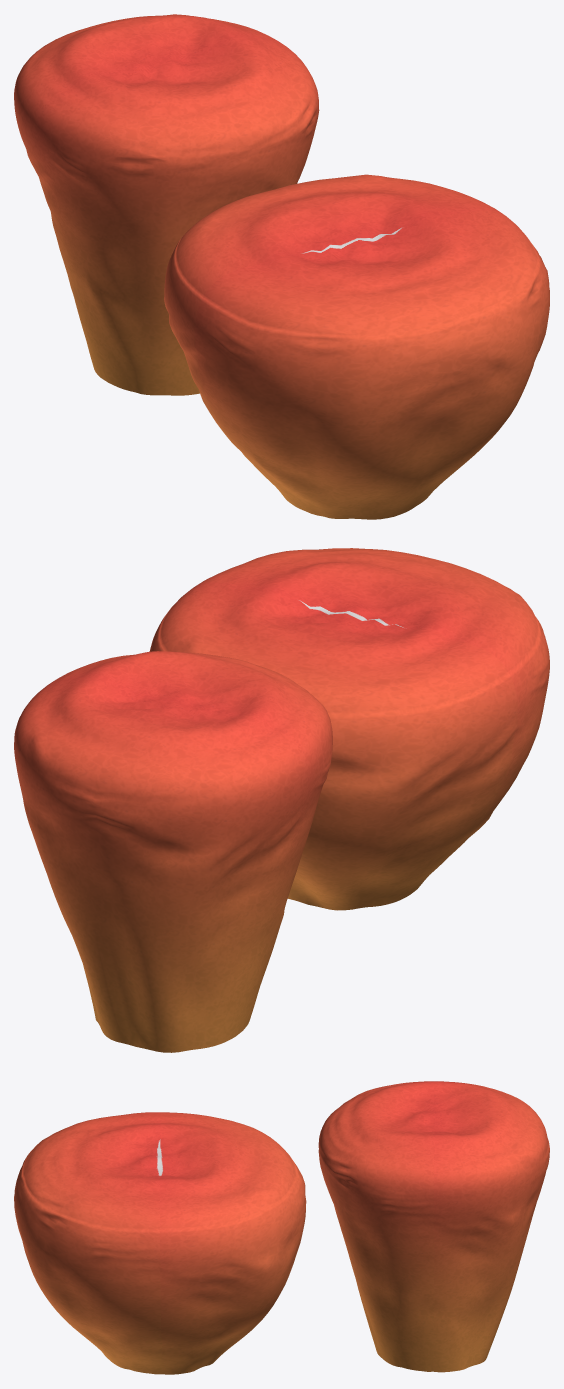
File: 2 Floating Lantain.fbx
3 views of the same model, one above another, from view 1: azimuth 30°, elevation 25°; view 2: azimuth 150°, elevation 25°; view 3: azimuth 270°, elevation 25° (orthographic). The views are drawn at different scales.
Visible parts, largest first — view 1: Floating_lantain, Korean_Floating_Lantain; view 2: Korean_Floating_Lantain, Floating_lantain; view 3: Floating_lantain, Korean_Floating_Lantain.
Boxes of the visible parts, box(x1,y1,x2,y2) form: Floating_lantain: box(164, 174, 549, 519); Korean_Floating_Lantain: box(14, 14, 319, 395); Korean_Floating_Lantain: box(14, 651, 332, 1052); Floating_lantain: box(149, 548, 549, 910); Floating_lantain: box(14, 1112, 306, 1374); Korean_Floating_Lantain: box(318, 1081, 549, 1372).
Size of the model in its own units: 9.83 by 9.06 by 18.29.
Materials: 1 (1 with a texture image).
